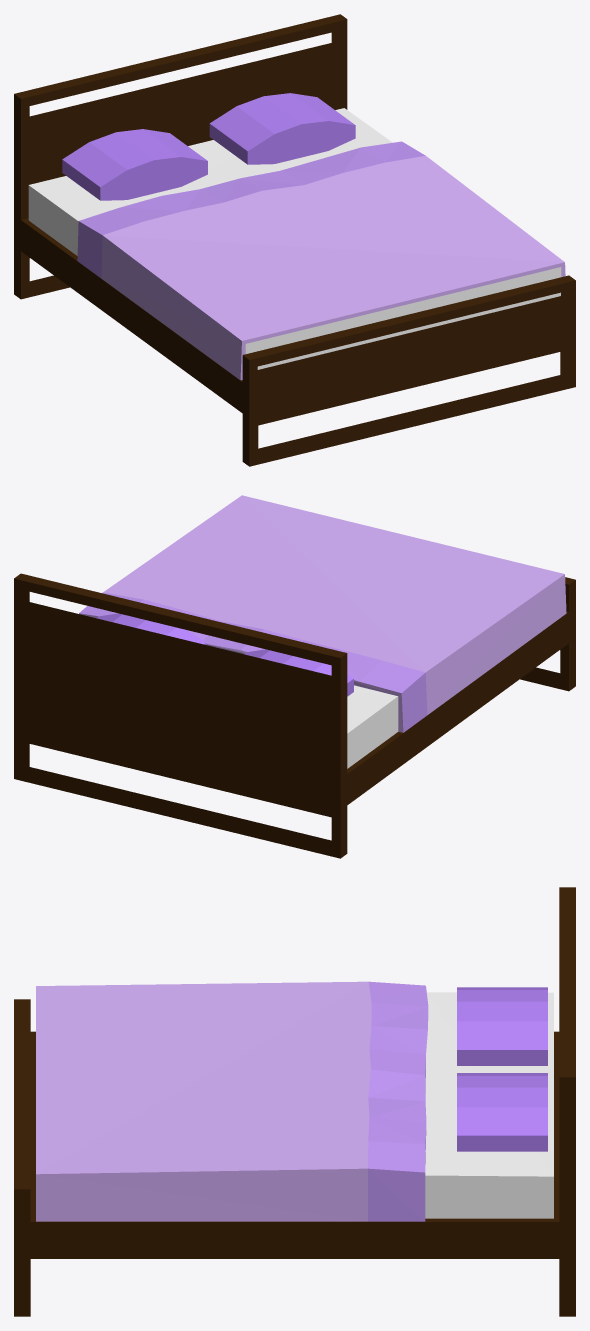
The model's file is bed_01.glb.
3 views of the same model, one above another, from view 1: azimuth 30°, elevation 25°; view 2: azimuth 150°, elevation 25°; view 3: azimuth 270°, elevation 25° (orthographic). The views are drawn at different scales.
Parts seen in each view (by area): view 1: Cube; view 2: Cube; view 3: Cube.
Part boxes in pixels (x1,y1,x2,y2): Cube: [14, 14, 575, 466]; Cube: [14, 495, 575, 858]; Cube: [14, 887, 575, 1316].
Size of the model in its own units: 1.6 by 0.9396 by 2.
1 material, 1 textured.
